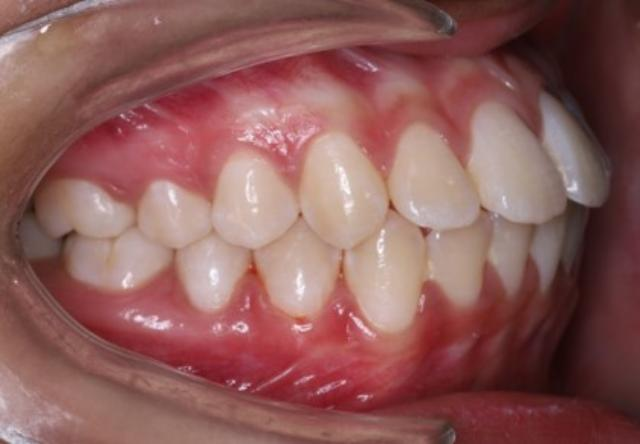canine class I: (252, 128, 428, 346)
molar class III 1/2: (36, 178, 176, 310)
